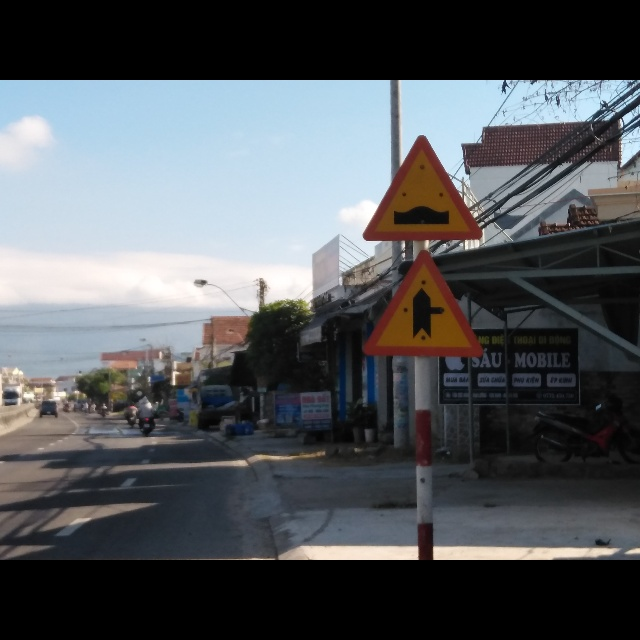Giao nhau với đường không ưu tiên: (362, 248, 487, 358)
Đường không bằng phẳng: (361, 132, 487, 244)
